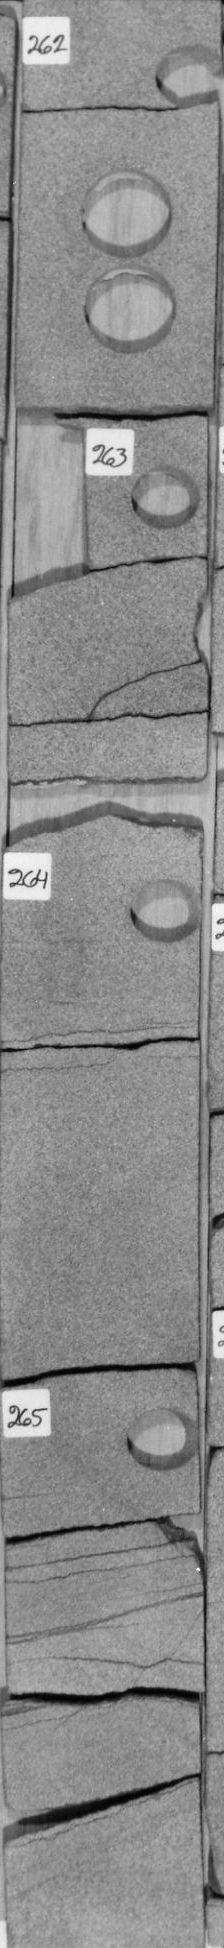hplug: (123, 871, 202, 949), (119, 1399, 197, 1478), (124, 458, 207, 533), (151, 34, 224, 111)
scal: (75, 261, 185, 363), (73, 159, 179, 255)
vplug: (9, 395, 93, 608)
